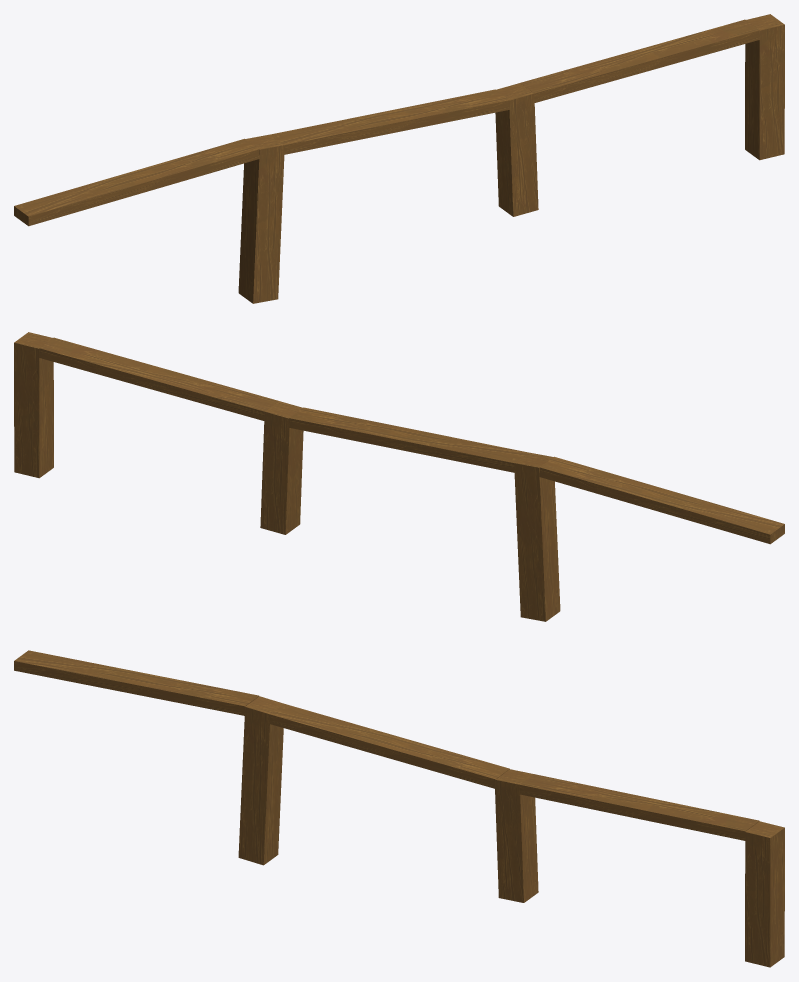
The model's file is valla 2 lateral.fbx.
3 renders of one model, top to bottom at view 1: azimuth 30°, elevation 25°; view 2: azimuth 150°, elevation 25°; view 3: azimuth 330°, elevation 25°, orthographic.
Visible parts, largest first — view 1: Cube.017, Cube.018, Cube.022, Cube.020, Cube.023, Cube.021; view 2: Cube.017, Cube.018, Cube.022, Cube.020, Cube.023, Cube.021; view 3: Cube.017, Cube.020, Cube.023, Cube.018, Cube.022, Cube.021.
Boxes of the visible parts, x1,y1,x2,y2 form: Cube.017: (238, 134, 284, 303); Cube.018: (14, 138, 259, 226); Cube.022: (520, 19, 759, 102); Cube.020: (270, 89, 509, 154); Cube.023: (745, 14, 784, 160); Cube.021: (495, 83, 538, 216); Cube.017: (514, 452, 560, 621); Cube.018: (539, 456, 784, 544); Cube.022: (39, 337, 278, 420); Cube.020: (289, 407, 528, 472); Cube.023: (14, 332, 53, 478); Cube.021: (260, 401, 303, 534); Cube.017: (238, 696, 283, 865); Cube.020: (270, 704, 509, 788); Cube.023: (745, 821, 784, 967); Cube.018: (14, 650, 259, 715); Cube.022: (519, 774, 759, 840); Cube.021: (494, 769, 538, 902).
Bounding box in the file's own units: 785 × 153 × 26.14.
Materials: 1 (1 with a texture image).
